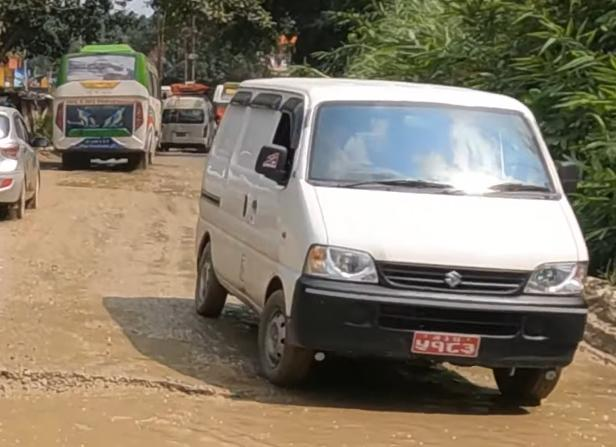bus: (50, 42, 163, 169)
car: (0, 101, 46, 224)
micro_bus: (161, 84, 211, 152)
van: (191, 67, 598, 409)
